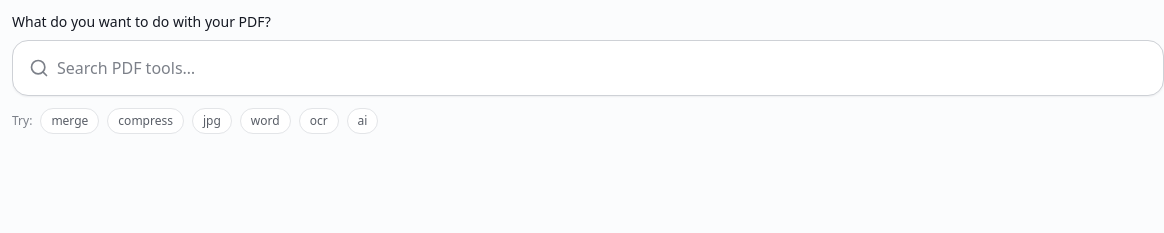
Scenario: HeroToolSearch › shows matching tools immediately while typing
The image size is (1164, 233).
Type "compress" into the search field. click: (602, 68)
box: x1=57 y1=56 x2=1147 y2=80
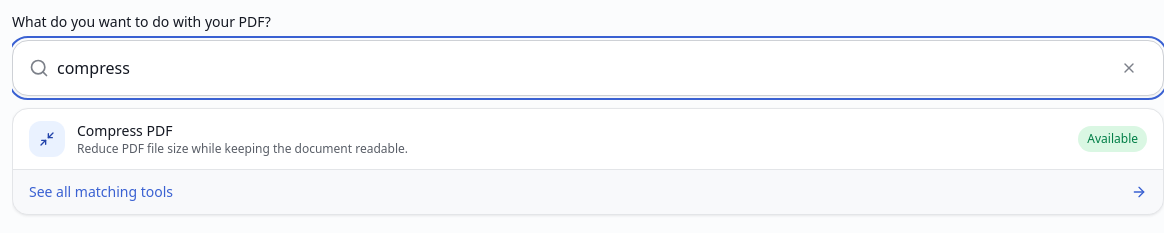
Check: the link "Compress PDF" is shown, box x1=13 y1=109 x2=1163 y2=169
